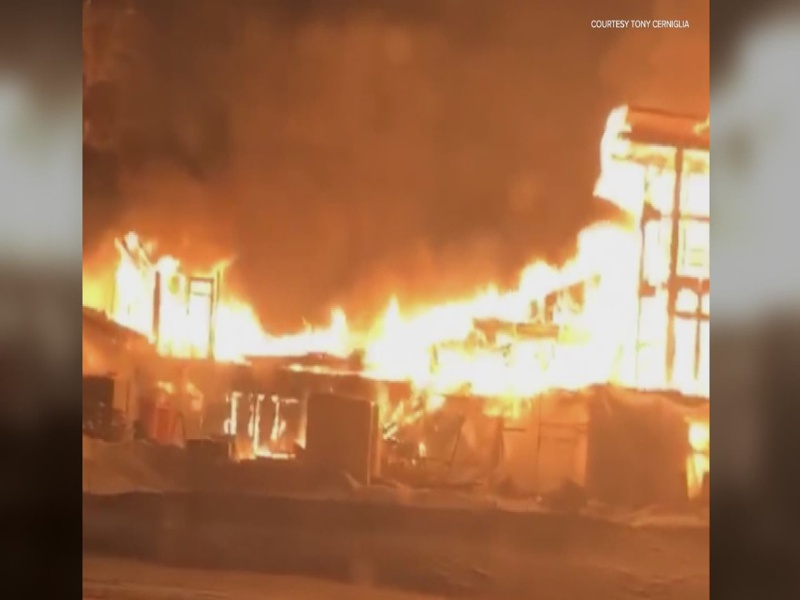fire: (455, 299, 662, 391), (117, 228, 242, 357), (245, 307, 452, 373), (571, 211, 644, 299)
